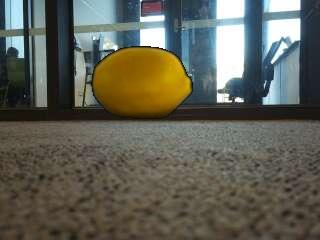lemon: (92, 47, 191, 117)
